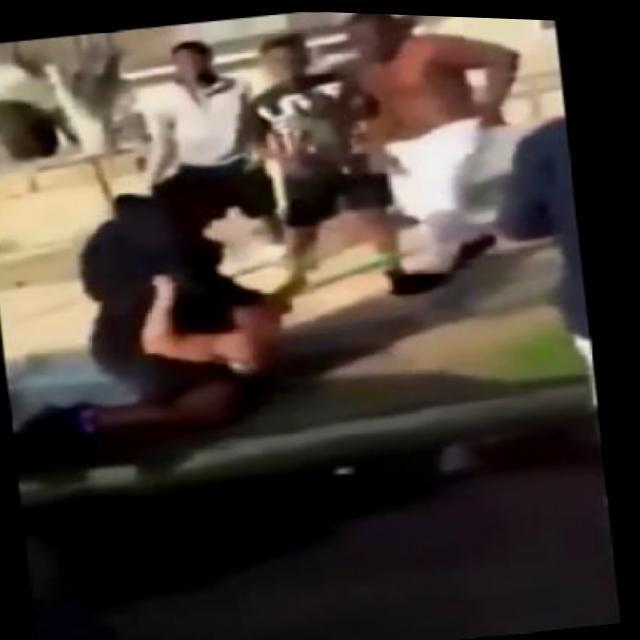fight: (0, 150, 303, 446)
